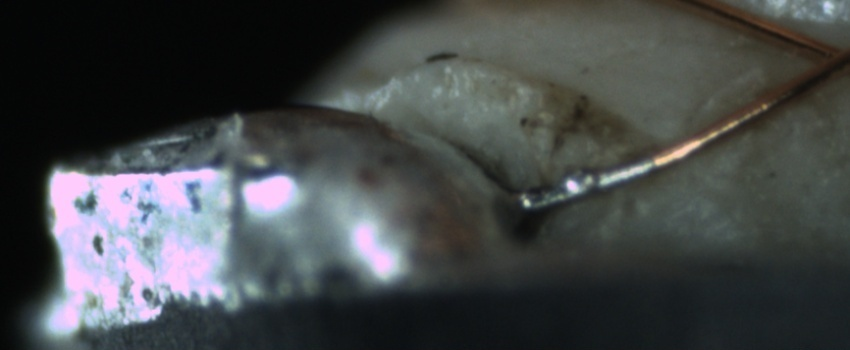CL: (794, 28, 850, 88)
TB: (555, 164, 604, 202)
TS: (518, 155, 650, 213)
TTCW: (511, 133, 709, 210)
